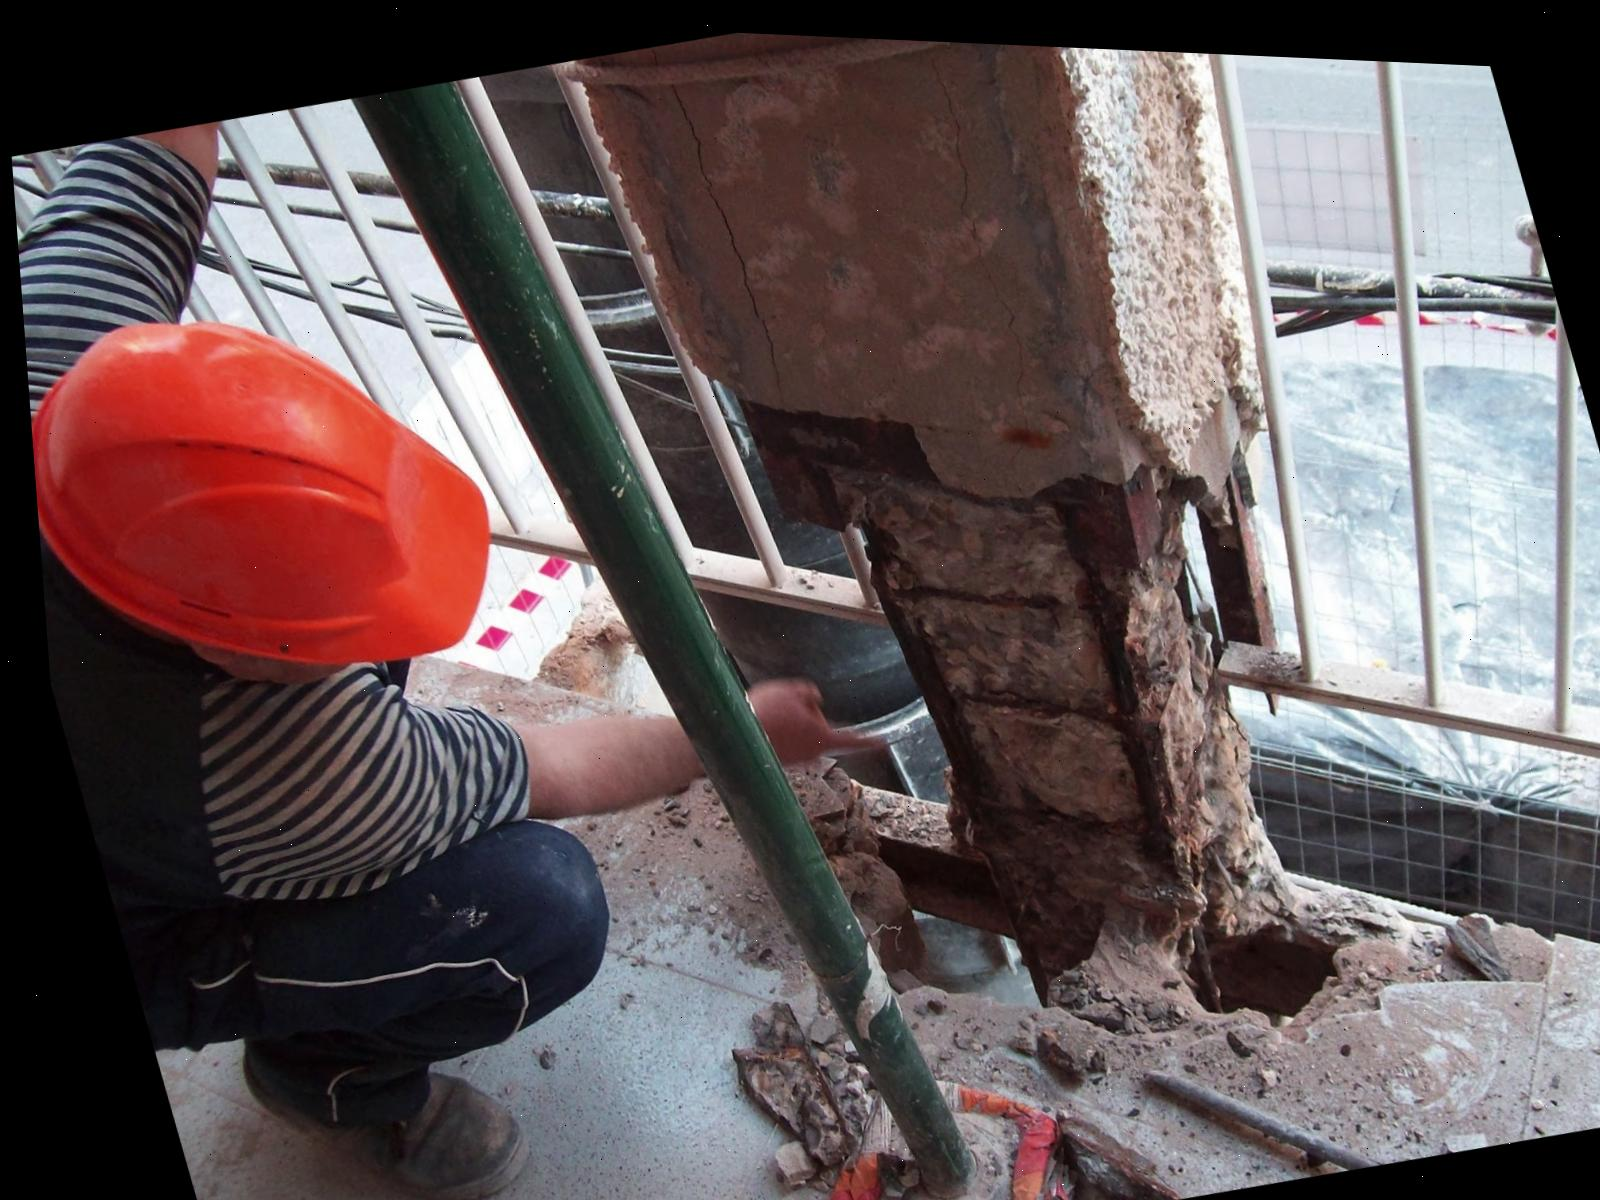spalling: (738, 398, 1298, 1016)
